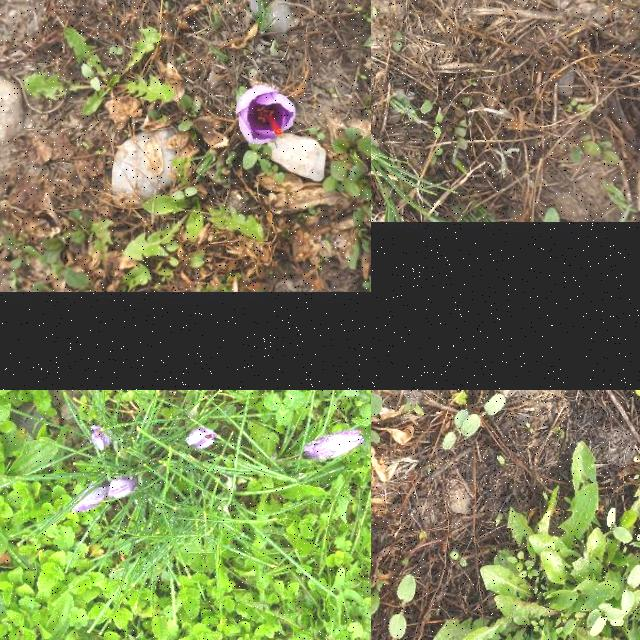flower: (235, 85, 297, 145), (302, 430, 364, 462), (74, 488, 108, 512), (108, 478, 140, 500), (188, 426, 216, 449), (90, 426, 114, 452)
